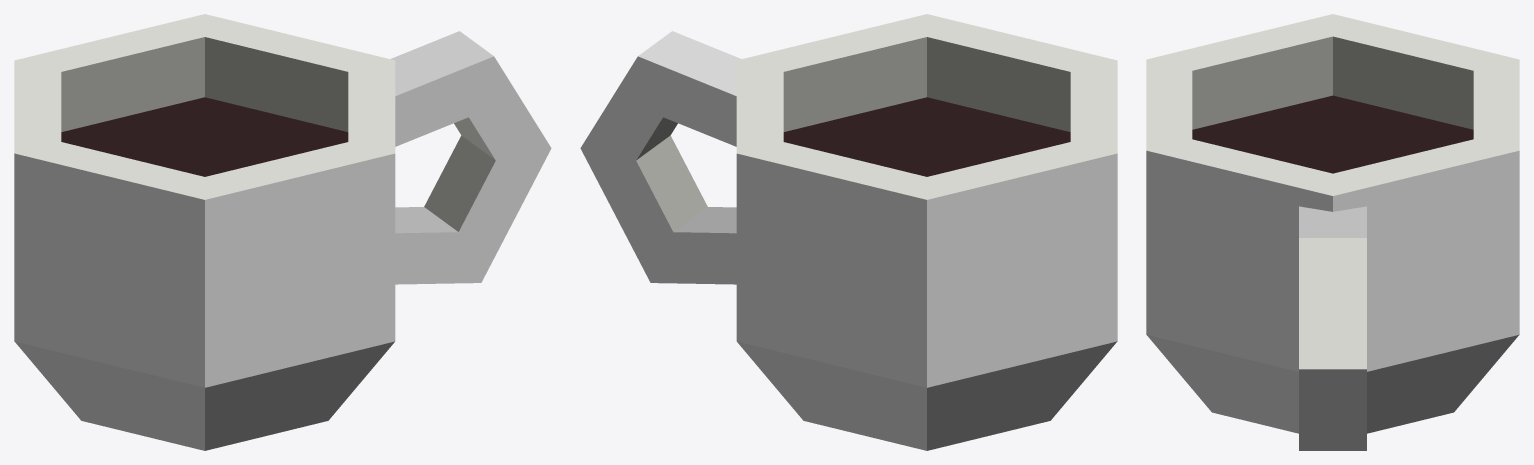
The model's file is TB_CITY_Prop_Cup_A.FBX.
3 views of the same model, side by side, from view 1: azimuth 30°, elevation 25°; view 2: azimuth 150°, elevation 25°; view 3: azimuth 270°, elevation 25° (orthographic). The views are drawn at different scales.
Visible parts, largest first — view 1: TB_CITY_Prop_Cup_A; view 2: TB_CITY_Prop_Cup_A; view 3: TB_CITY_Prop_Cup_A.
Part boxes in pixels (x1,y1,x2,y2): TB_CITY_Prop_Cup_A: (14, 14, 551, 450); TB_CITY_Prop_Cup_A: (580, 14, 1117, 450); TB_CITY_Prop_Cup_A: (1146, 14, 1519, 450).
Size of the model in its own units: 1.31 by 0.6833 by 0.8317.
